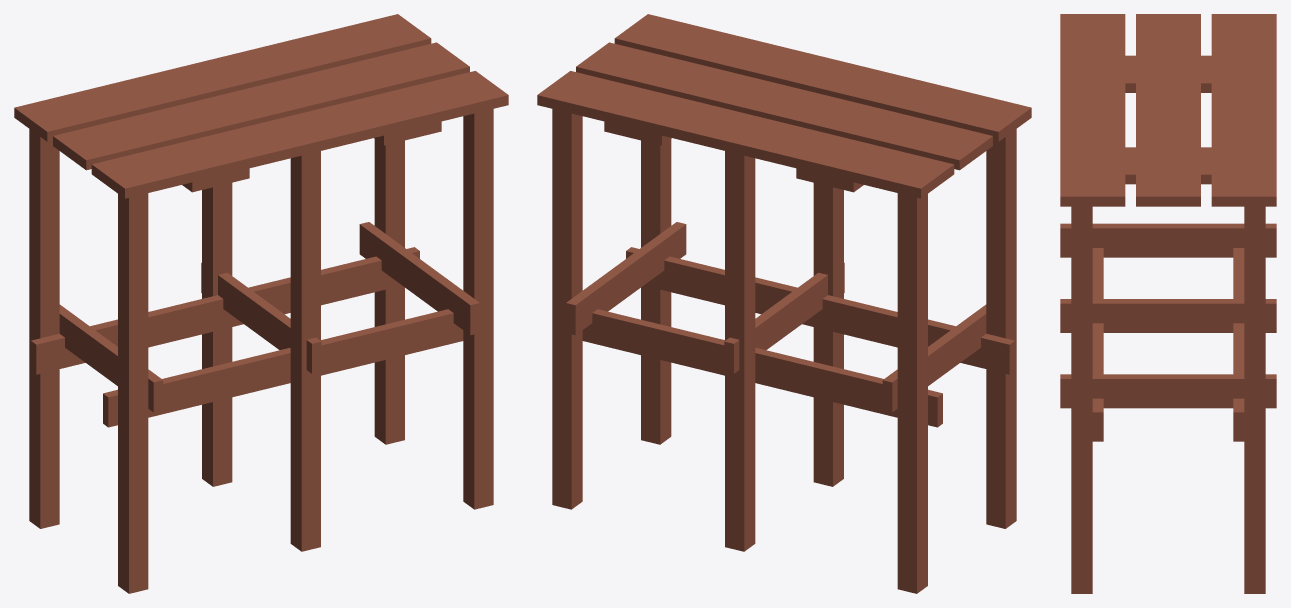
The model's file is scaffold_small_high_long 1.fbx.
The picture shows the model from 3 angles, left to right: view 1: azimuth 30°, elevation 25°; view 2: azimuth 150°, elevation 25°; view 3: azimuth 270°, elevation 25°; orthographic projection. The views are drawn at different scales.
Visible parts, largest first — view 1: scaffold_small_high_long; view 2: scaffold_small_high_long; view 3: scaffold_small_high_long.
Part boxes in pixels (x1,y1,x2,y2): scaffold_small_high_long: [14, 14, 508, 593]; scaffold_small_high_long: [537, 14, 1031, 593]; scaffold_small_high_long: [1060, 14, 1276, 593].
Bounding box in the file's own units: 400 × 410 × 200.
